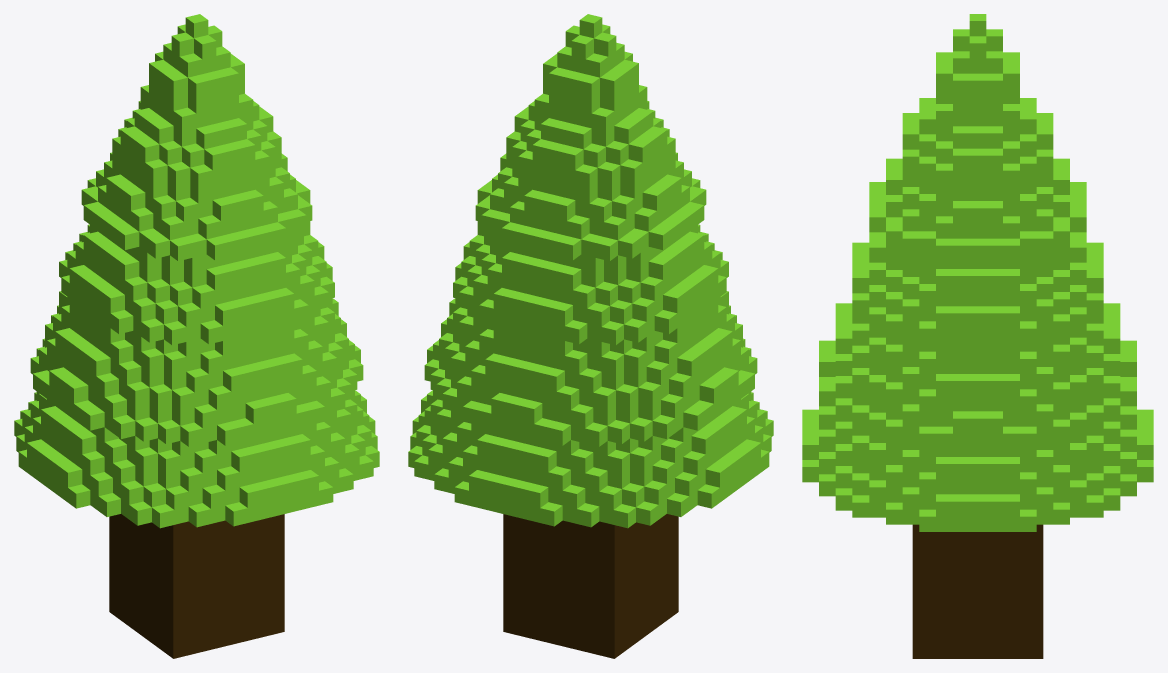
File: pine_tree.fbx
3 renders of one model, left to right at view 1: azimuth 30°, elevation 25°; view 2: azimuth 150°, elevation 25°; view 3: azimuth 270°, elevation 25°, orthographic.
Visible parts, largest first — view 1: Circle, Plane; view 2: Circle, Plane; view 3: Circle, Plane.
Boxes of the visible parts, x1,y1,x2,y2 form: Circle: [14, 14, 379, 528]; Plane: [109, 514, 284, 658]; Circle: [408, 14, 773, 528]; Plane: [503, 514, 678, 658]; Circle: [802, 14, 1153, 531]; Plane: [912, 524, 1043, 658].
Bounding box in the file's own units: 540 × 1040 × 540.
